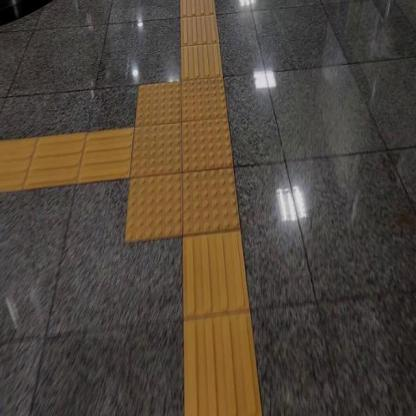podotacti: (111, 59, 256, 271), (183, 235, 262, 415), (0, 125, 129, 192), (176, 0, 224, 79)
